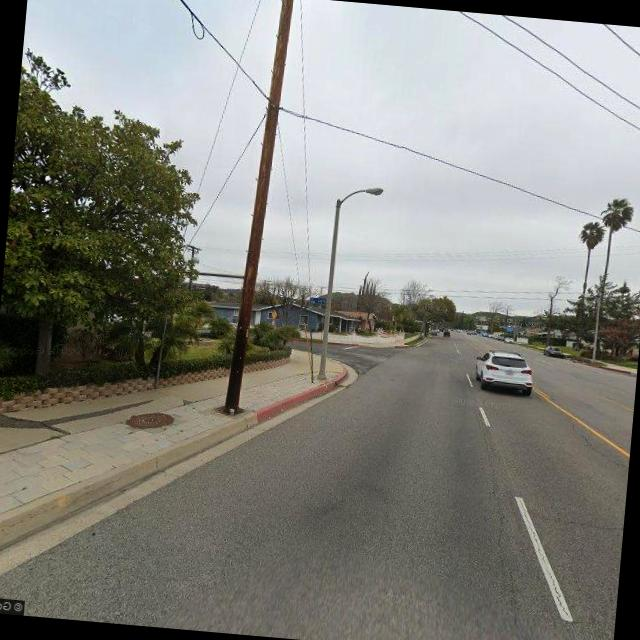crack: (470, 441, 555, 640), (522, 508, 624, 534)
